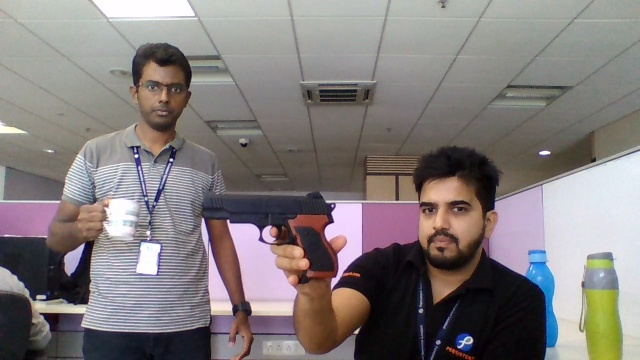gun: (203, 189, 334, 244)
